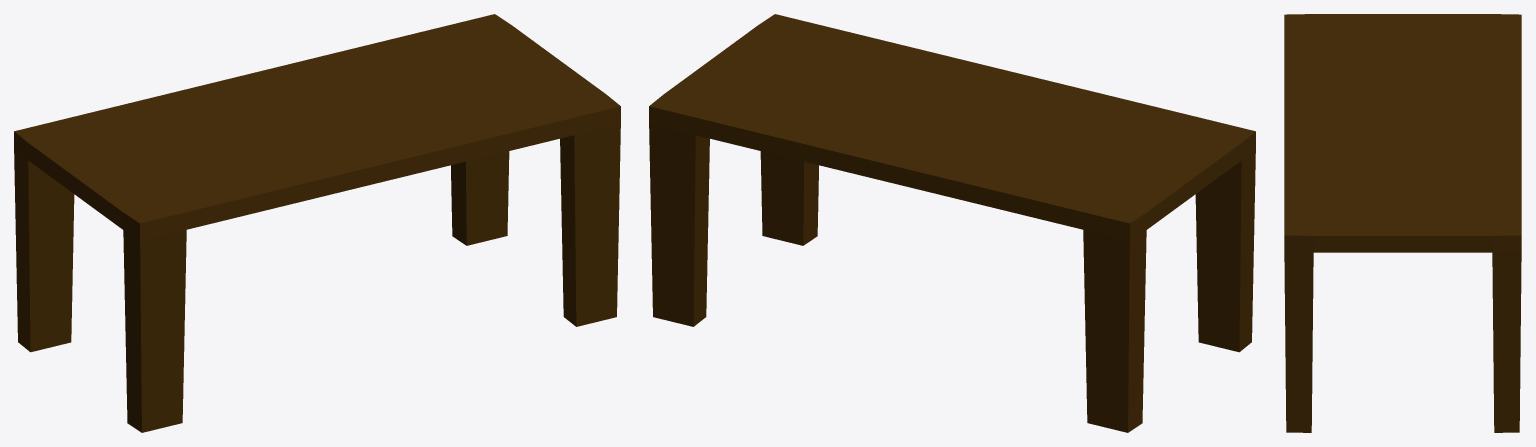
The model's file is SmallTable.fbx.
3 views of the same model, side by side, from view 1: azimuth 30°, elevation 25°; view 2: azimuth 150°, elevation 25°; view 3: azimuth 270°, elevation 25° (orthographic). The views are drawn at different scales.
Visible parts, largest first — view 1: SmallTable; view 2: SmallTable; view 3: SmallTable.
Boxes of the visible parts, x1,y1,x2,y2 form: SmallTable: [14, 14, 620, 432]; SmallTable: [649, 14, 1255, 432]; SmallTable: [1284, 14, 1521, 432].
Bounding box in the file's own units: 1.67 × 0.6981 × 0.7562.
